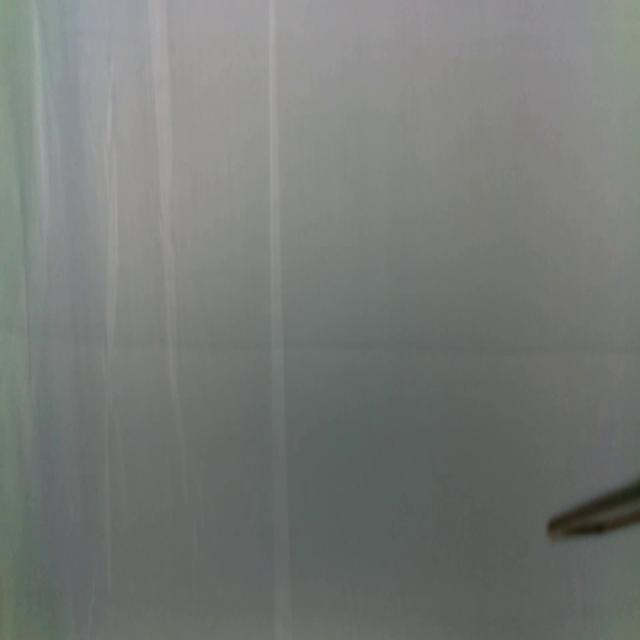color bleeding: (2, 310, 639, 372)
crease: (150, 2, 188, 460), (266, 0, 292, 640), (105, 50, 122, 598)
